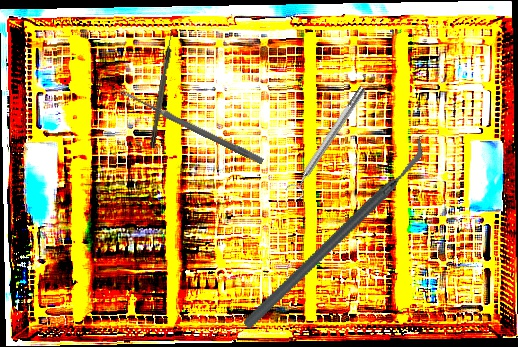Chopper: (203, 134, 467, 332)
Fixation Ring: (283, 82, 373, 201)
Hook Surgical: (148, 28, 176, 149)
Surgical Spoon: (117, 87, 265, 165)
